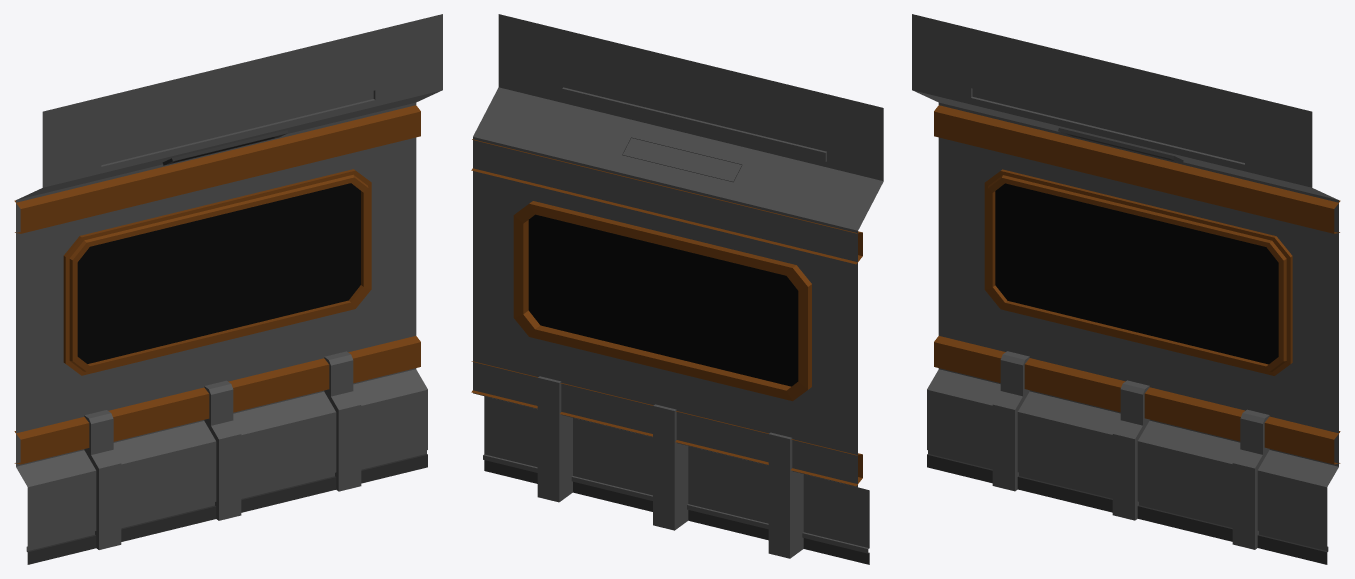
Rendered from Window_Wall_SideB.obj.
The picture shows the model from 3 angles, left to right: view 1: azimuth 30°, elevation 25°; view 2: azimuth 150°, elevation 25°; view 3: azimuth 330°, elevation 25°; orthographic projection. The views are drawn at different scales.
Parts seen in each view (by area): view 1: Window_Wall_SideB_Plane.013; view 2: Window_Wall_SideB_Plane.013; view 3: Window_Wall_SideB_Plane.013.
Part boxes in pixels (x1,y1,x2,y2): Window_Wall_SideB_Plane.013: [14, 14, 442, 564]; Window_Wall_SideB_Plane.013: [471, 14, 883, 564]; Window_Wall_SideB_Plane.013: [912, 14, 1340, 564].
Size of the model in its own units: 4 by 4.43 by 0.5355.
